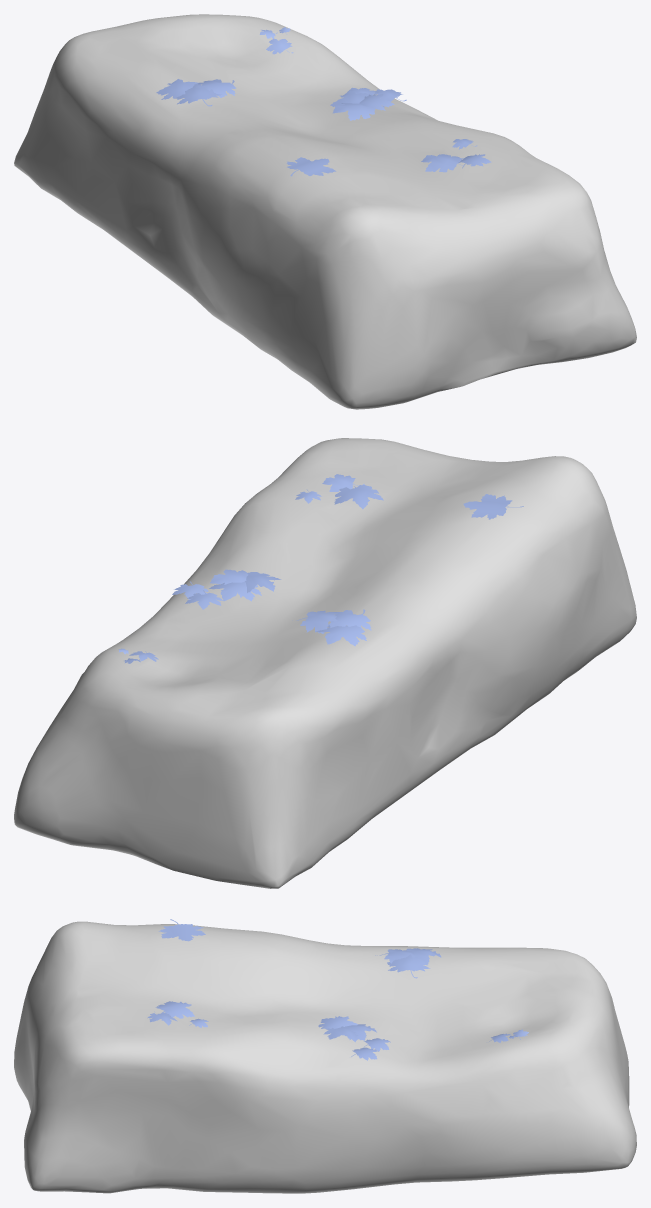
Rendered from Pedra Deitada 2.fbx.
3 views of the same model, one above another, from view 1: azimuth 30°, elevation 25°; view 2: azimuth 150°, elevation 25°; view 3: azimuth 270°, elevation 25° (orthographic). The views are drawn at different scales.
Parts seen in each view (by area): view 1: Pedra 2.001, Folha 1 Azul2.092; view 2: Pedra 2.001, Folha 1 Azul2.092, Folha 1 Azul2.093, Folha 1 Azul2.086; view 3: Pedra 2.001, Folha 1 Azul2.092, Folha 1 Azul2.085, Folha 1 Azul2.093.
Boxes of the visible parts, left/top/right/bottom form: Pedra 2.001: left=14, top=14, right=636, bottom=409; Folha 1 Azul2.092: left=286, top=157, right=336, bottom=176; Pedra 2.001: left=14, top=438, right=636, bottom=888; Folha 1 Azul2.092: left=463, top=494, right=523, bottom=519; Folha 1 Azul2.093: left=334, top=485, right=383, bottom=509; Folha 1 Azul2.086: left=315, top=625, right=366, bottom=646; Pedra 2.001: left=14, top=921, right=636, bottom=1193; Folha 1 Azul2.092: left=158, top=919, right=205, bottom=941; Folha 1 Azul2.085: left=387, top=954, right=430, bottom=978; Folha 1 Azul2.093: left=155, top=1001, right=194, bottom=1018.
Bounding box in the file's own units: 240 × 141 × 466.
